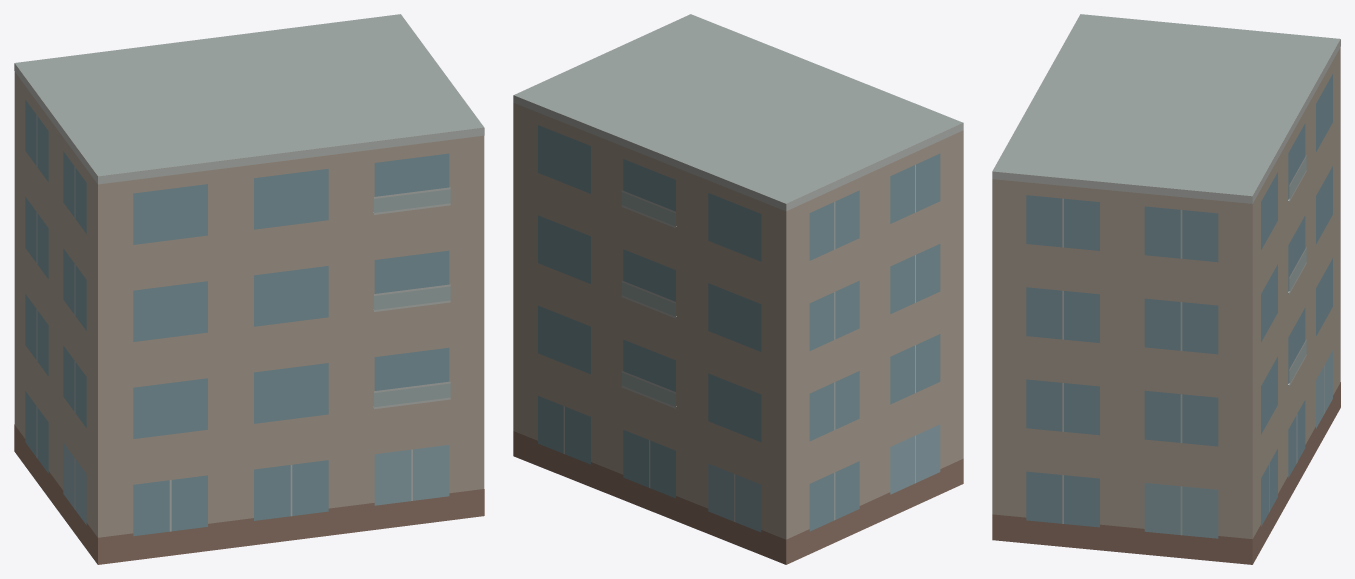
The model's file is survey-upis-32538657.glb.
3 renders of one model, left to right at view 1: azimuth 30°, elevation 25°; view 2: azimuth 150°, elevation 25°; view 3: azimuth 270°, elevation 25°, orthographic. The views are drawn at different scales.
Parts seen in each view (by area): view 1: survey-upis-32538657.tmp; view 2: survey-upis-32538657.tmp; view 3: survey-upis-32538657.tmp.
Part boxes in pixels (x1,y1,x2,y2): survey-upis-32538657.tmp: (14,14,484,564); survey-upis-32538657.tmp: (513,14,963,564); survey-upis-32538657.tmp: (992,14,1340,564).
Size of the model in its own units: 12.52 by 11.8 by 10.12.
